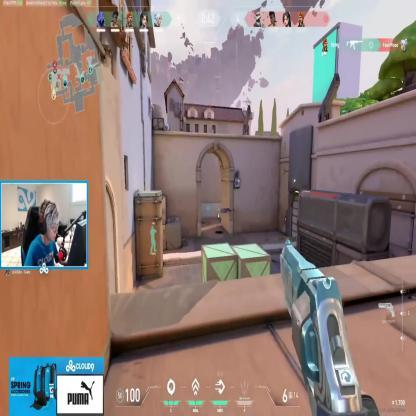enemy: (216, 204, 221, 221)
enemy_head: (218, 204, 219, 209)
